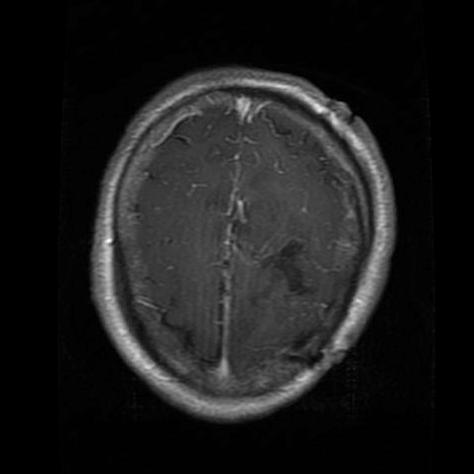Tumour-Glioma: (259, 217, 316, 305)
